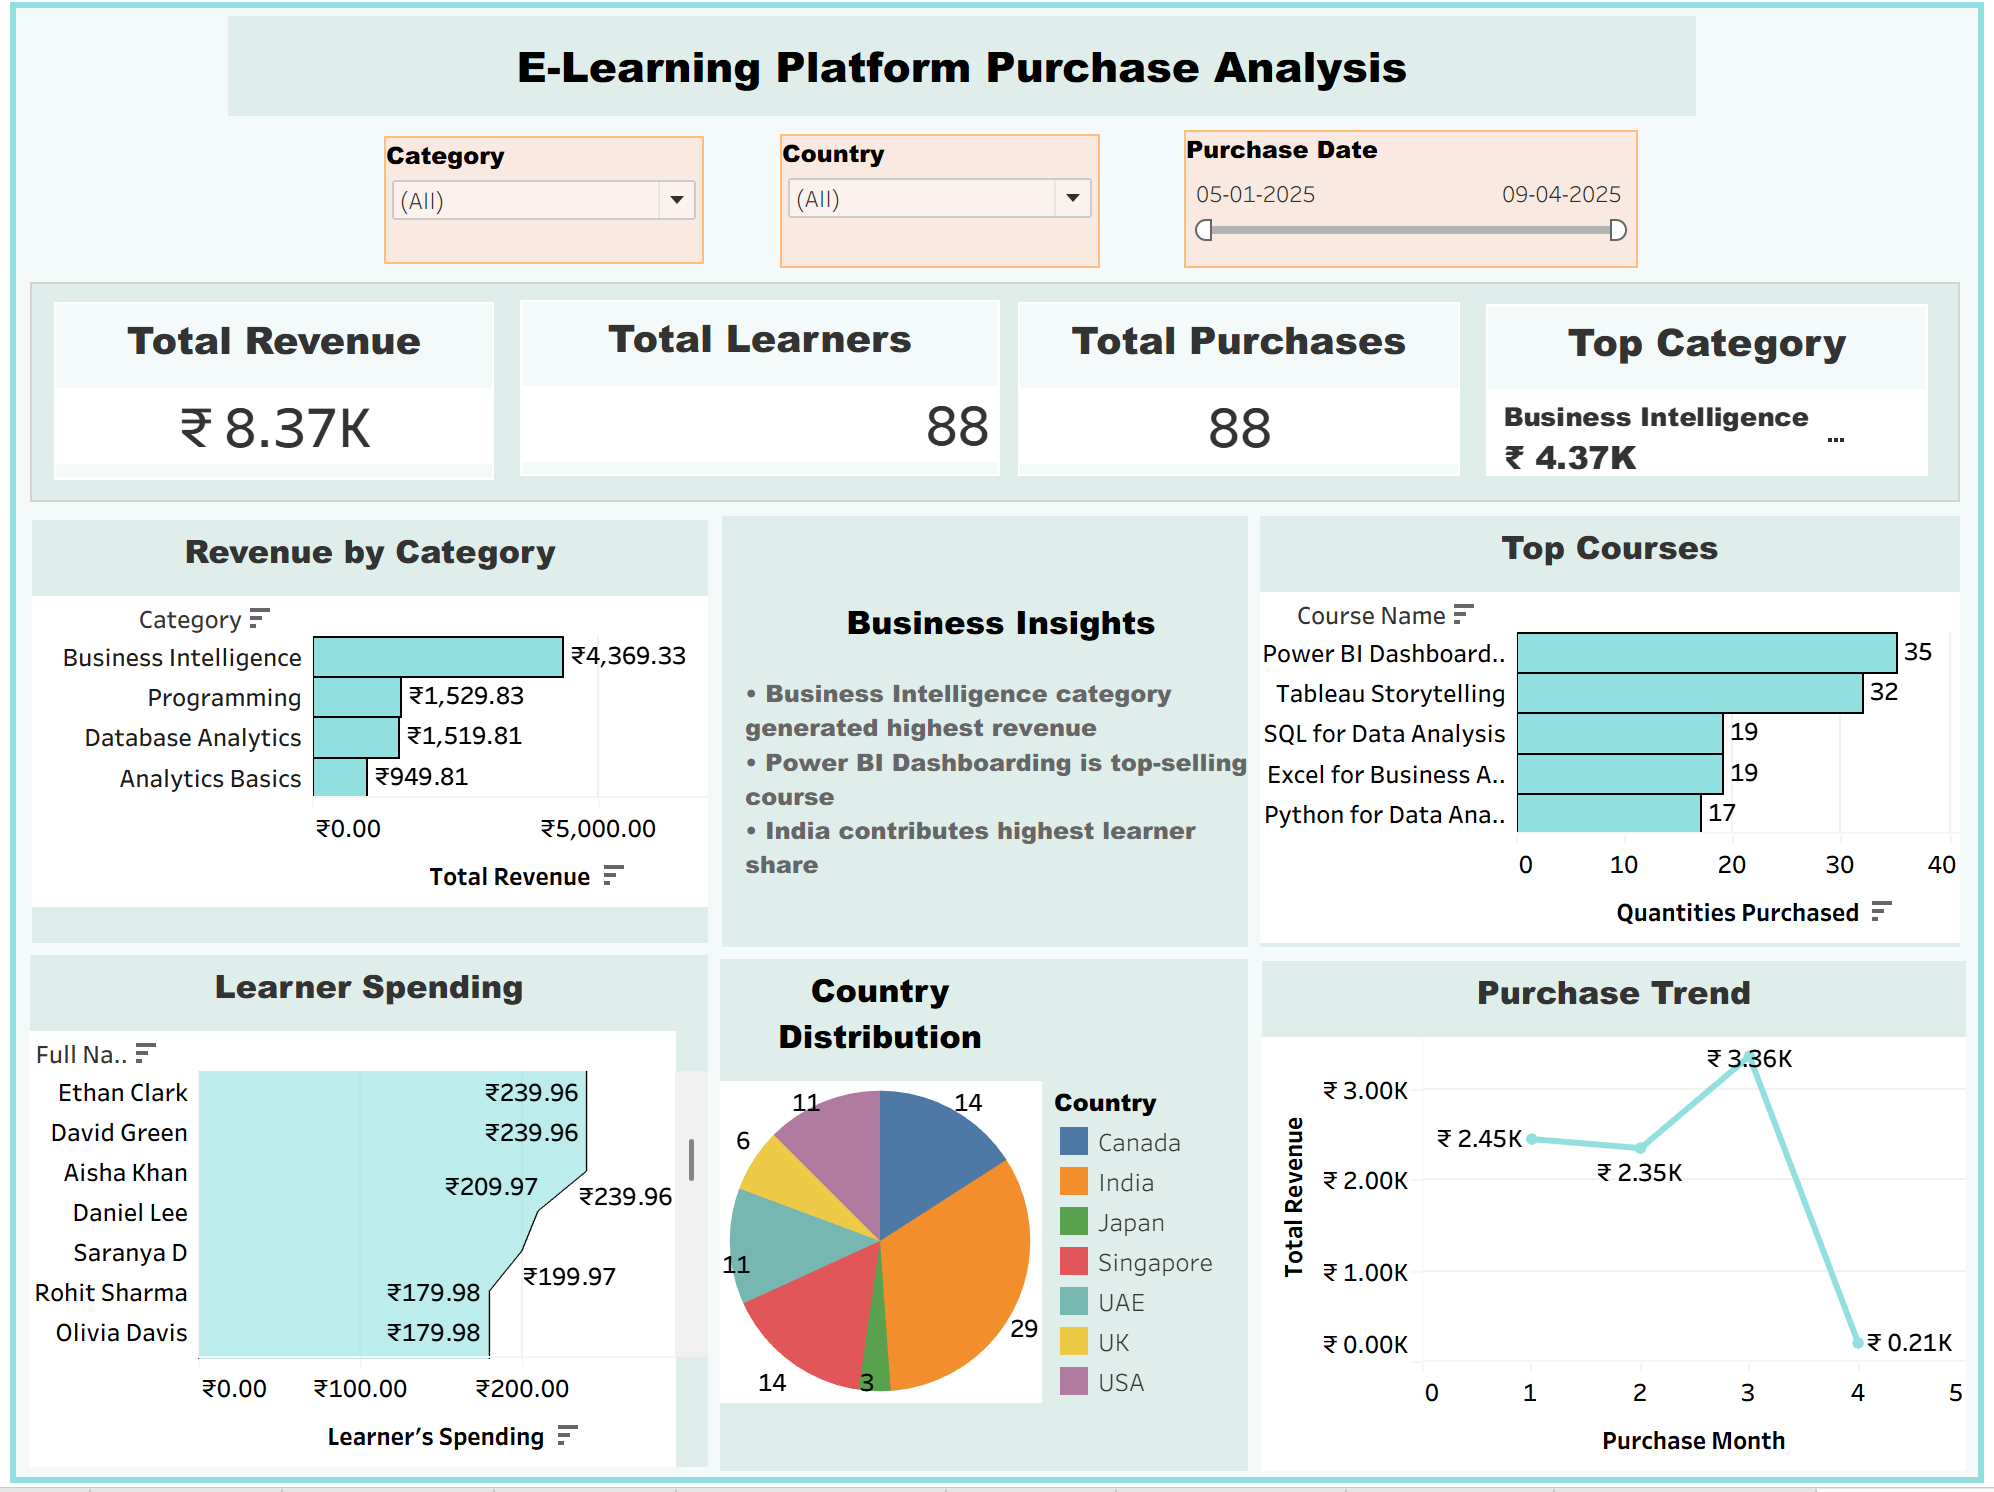

This screenshot's page, from the dashboard's own definition file:
{"tool":"tableau","page":{"name":"ELearning Platform dashboard","canvas":[1000,800],"ordinal":0},"visuals":[{"type":"text","box":[112,16,742,58]},{"type":"filter","title":"Top Courses","param":"[federated.1m7iqov06xq9t81bfwexs0vgw53u].[none:purchase_date:qk]","box":[594,77,227,69]},{"type":"filter","title":"Revenue by Category","param":"[federated.1m7iqov06xq9t81bfwexs0vgw53u].[none:country:nk]","box":[392,79,160,67]},{"type":"filter","title":"Top Courses","param":"[federated.1m7iqov06xq9t81bfwexs0vgw53u].[none:category:nk]","box":[194,80,160,64]},{"type":"worksheet","title":"Total Learners","mark":"Automatic","box":[262,162,240,88]},{"type":"worksheet","title":"KPI 1 TotalRevenue","mark":"Automatic","box":[29,163,220,89]},{"type":"worksheet","title":"Total Purchases","mark":"Automatic","box":[511,163,221,87]},{"type":"worksheet","title":"Top Category","mark":"Automatic","box":[745,164,221,86]},{"type":"worksheet","title":"Top Courses","mark":"Automatic","rows":["course_name"],"cols":["quantity"],"box":[632,270,350,215]},{"type":"worksheet","title":"Revenue by Category","mark":"Bar","rows":["category"],"cols":["Calculation_1821683670044672"],"box":[18,272,338,211]},{"type":"text","box":[372,289,261,186]},{"type":"worksheet","title":"Learner Spending","mark":"Area","rows":["full_name"],"cols":["Calculation_1821683670044672"],"box":[17,489,339,256]},{"type":"worksheet","title":"Country Distribution","mark":"Pie","box":[362,491,264,256]},{"type":"worksheet","title":"Purchase Trend","mark":"Line","rows":["Calculation_1821683670044672"],"cols":["purchase_date"],"box":[633,492,352,255]},{"type":"legend","title":"Country Distribution","param":"[federated.1m7iqov06xq9t81bfwexs0vgw53u].[none:country:nk]","box":[529,554,93,160]}]}

Visuals, with their boxes on the page's 1000x800 design canvas (x1, y1, x2, y2). These are canvas units, not pixel positions in the 1994x1492 screenshot, which may show the page scaled, cropped or inside an application window:
text: locate(112, 16, 854, 74)
"Top Courses" filter: locate(594, 77, 821, 146)
"Revenue by Category" filter: locate(392, 79, 552, 146)
"Top Courses" filter: locate(194, 80, 354, 144)
"Total Learners" worksheet: locate(262, 162, 502, 250)
"KPI 1 TotalRevenue" worksheet: locate(29, 163, 249, 252)
"Total Purchases" worksheet: locate(511, 163, 732, 250)
"Top Category" worksheet: locate(745, 164, 966, 250)
"Top Courses" worksheet: locate(632, 270, 982, 485)
"Revenue by Category" worksheet (Bar marks): locate(18, 272, 356, 483)
text: locate(372, 289, 633, 475)
"Learner Spending" worksheet (Area marks): locate(17, 489, 356, 745)
"Country Distribution" worksheet (Pie marks): locate(362, 491, 626, 747)
"Purchase Trend" worksheet (Line marks): locate(633, 492, 985, 747)
"Country Distribution" legend: locate(529, 554, 622, 714)
